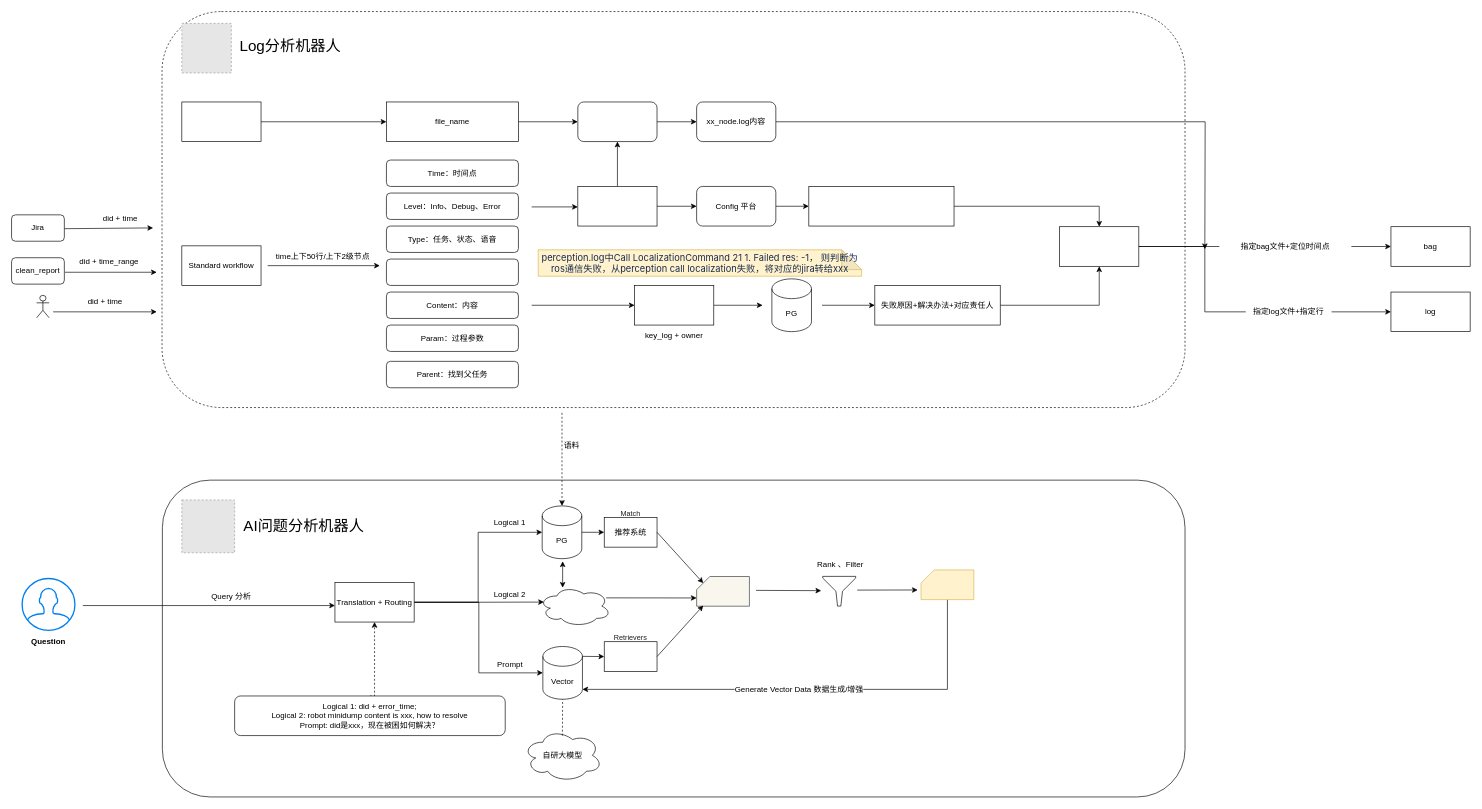
The diagram is 1482 pixels wide and 809 high, and some of its shapes have lost their labels. Grey dashed boxes stand in for pictures. Each missing label, with the centre of its shape:
"Best Answer" belongs at pixel 947 584.
"error_code : xxxxx error_node ：节点" belongs at pixel 617 206.
"GPT4 / Qwen" belongs at pixel 574 606.
"mini_dump" belongs at pixel 221 121.
"node_name+ time" belongs at pixel 617 121.
"Result" belongs at pixel 722 591.
"Tag：开始、结束" belongs at pixel 452 271.
"User" belongs at pixel 42 306.
"场景+条件+等级+解决办法+域owner" belongs at pixel 881 206.
"大模型推理" belongs at pixel 630 656.
"自定义日志匹配规则" belongs at pixel 674 305.
"规则融合计算 给出最终判定结果" belongs at pixel 1099 246.
